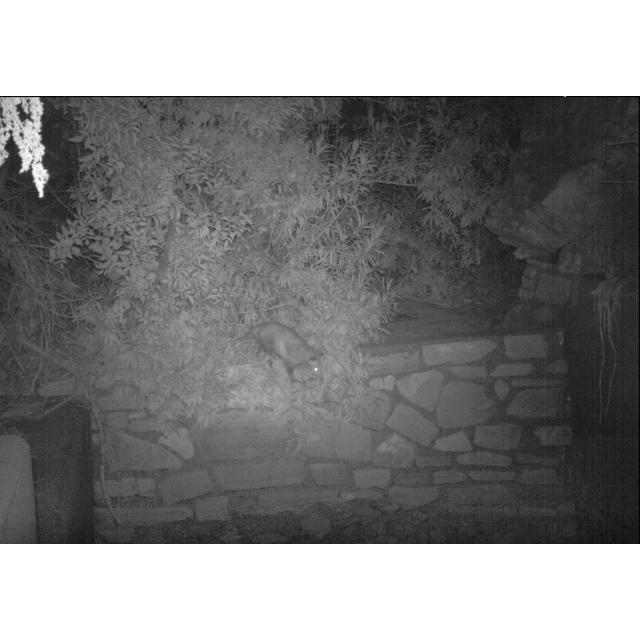animals: (239, 320, 327, 380)
